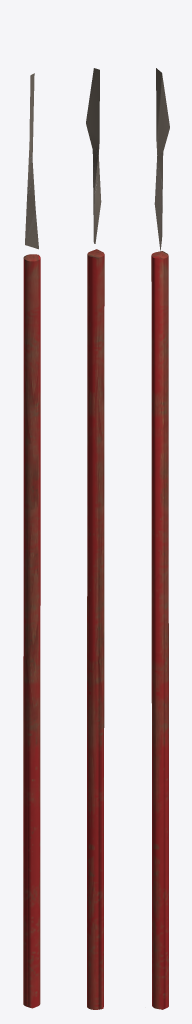
Rendered from Speer_LOD1.dae.
3 views of the same model, side by side, from view 1: azimuth 90°, elevation 25°; view 2: azimuth 150°, elevation 25°; view 3: azimuth 330°, elevation 25° (orthographic).
Parts seen in each view (by area): view 1: Speer_LOD1; view 2: Speer_LOD1; view 3: Speer_LOD1.
Boxes of the visible parts, x1=… form: Speer_LOD1: x1=23, y1=73, x2=40, y2=1008; Speer_LOD1: x1=86, y1=68, x2=104, y2=1009; Speer_LOD1: x1=151, y1=68, x2=169, y2=1009.
Size of the model in its own units: 0.0456 by 0.0352 by 2.2.
Materials: 1 (1 with a texture image).
